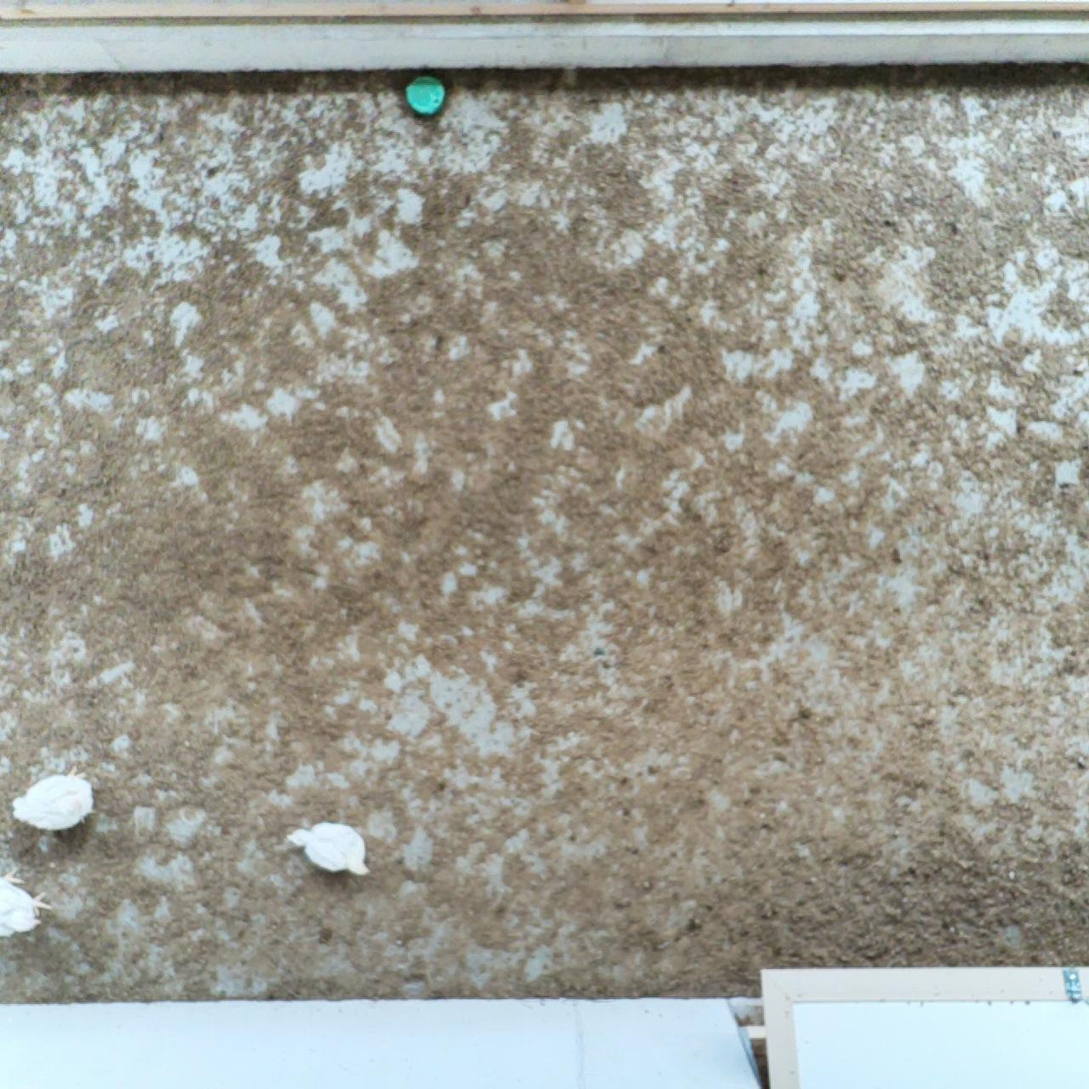chicken: (14, 765, 100, 831), (286, 817, 371, 882), (0, 864, 55, 942)
